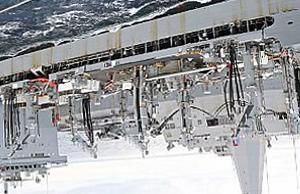rust: (240, 4, 296, 16), (26, 54, 52, 66), (111, 31, 124, 48), (179, 17, 192, 33), (151, 22, 160, 36)
